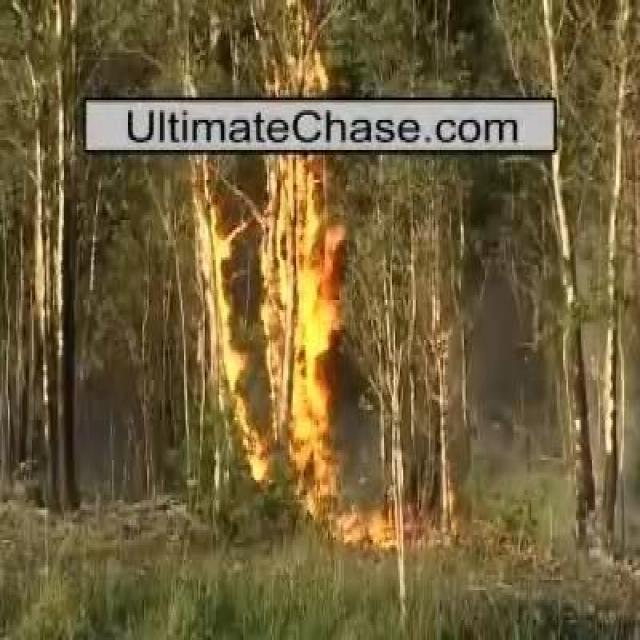Fire: (271, 155, 335, 497), (191, 178, 249, 458), (332, 511, 391, 544)
